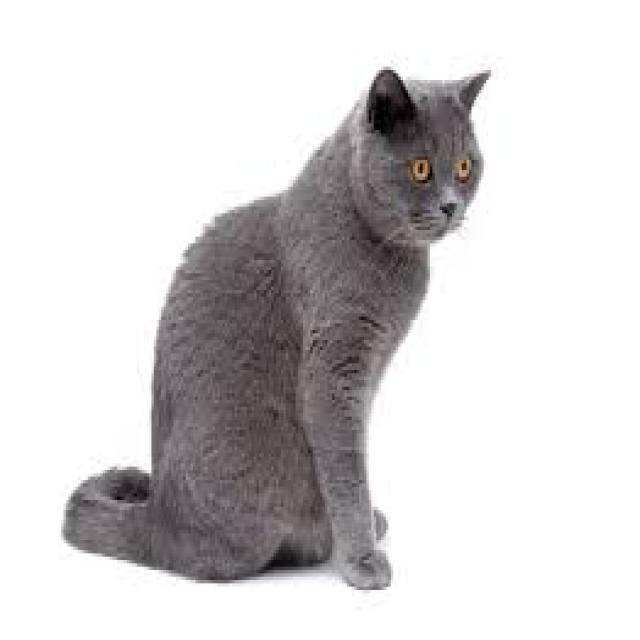Cat: (56, 58, 503, 596)
